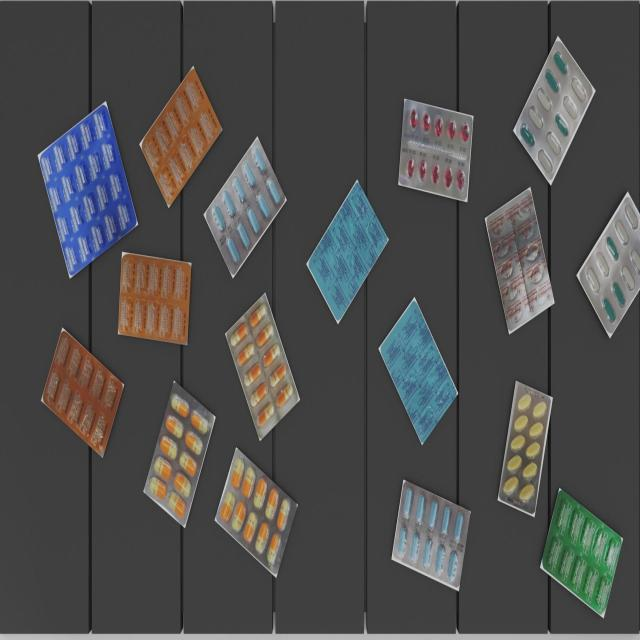blister: (40, 103, 137, 277), (307, 178, 387, 323), (141, 68, 223, 208), (514, 39, 592, 183), (379, 299, 456, 443), (207, 132, 283, 277), (225, 294, 298, 442), (541, 489, 623, 619), (216, 449, 296, 580), (144, 379, 213, 527), (43, 330, 123, 456), (486, 190, 554, 332), (576, 185, 640, 335), (390, 479, 472, 588), (398, 96, 475, 200), (118, 252, 192, 346), (501, 382, 552, 517)
